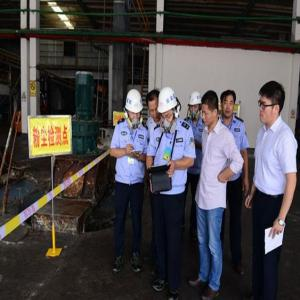none: (258, 81, 287, 129), (201, 90, 219, 128), (221, 88, 237, 120), (147, 89, 161, 121)
white: (125, 89, 144, 129), (159, 87, 177, 129), (188, 92, 202, 120)
